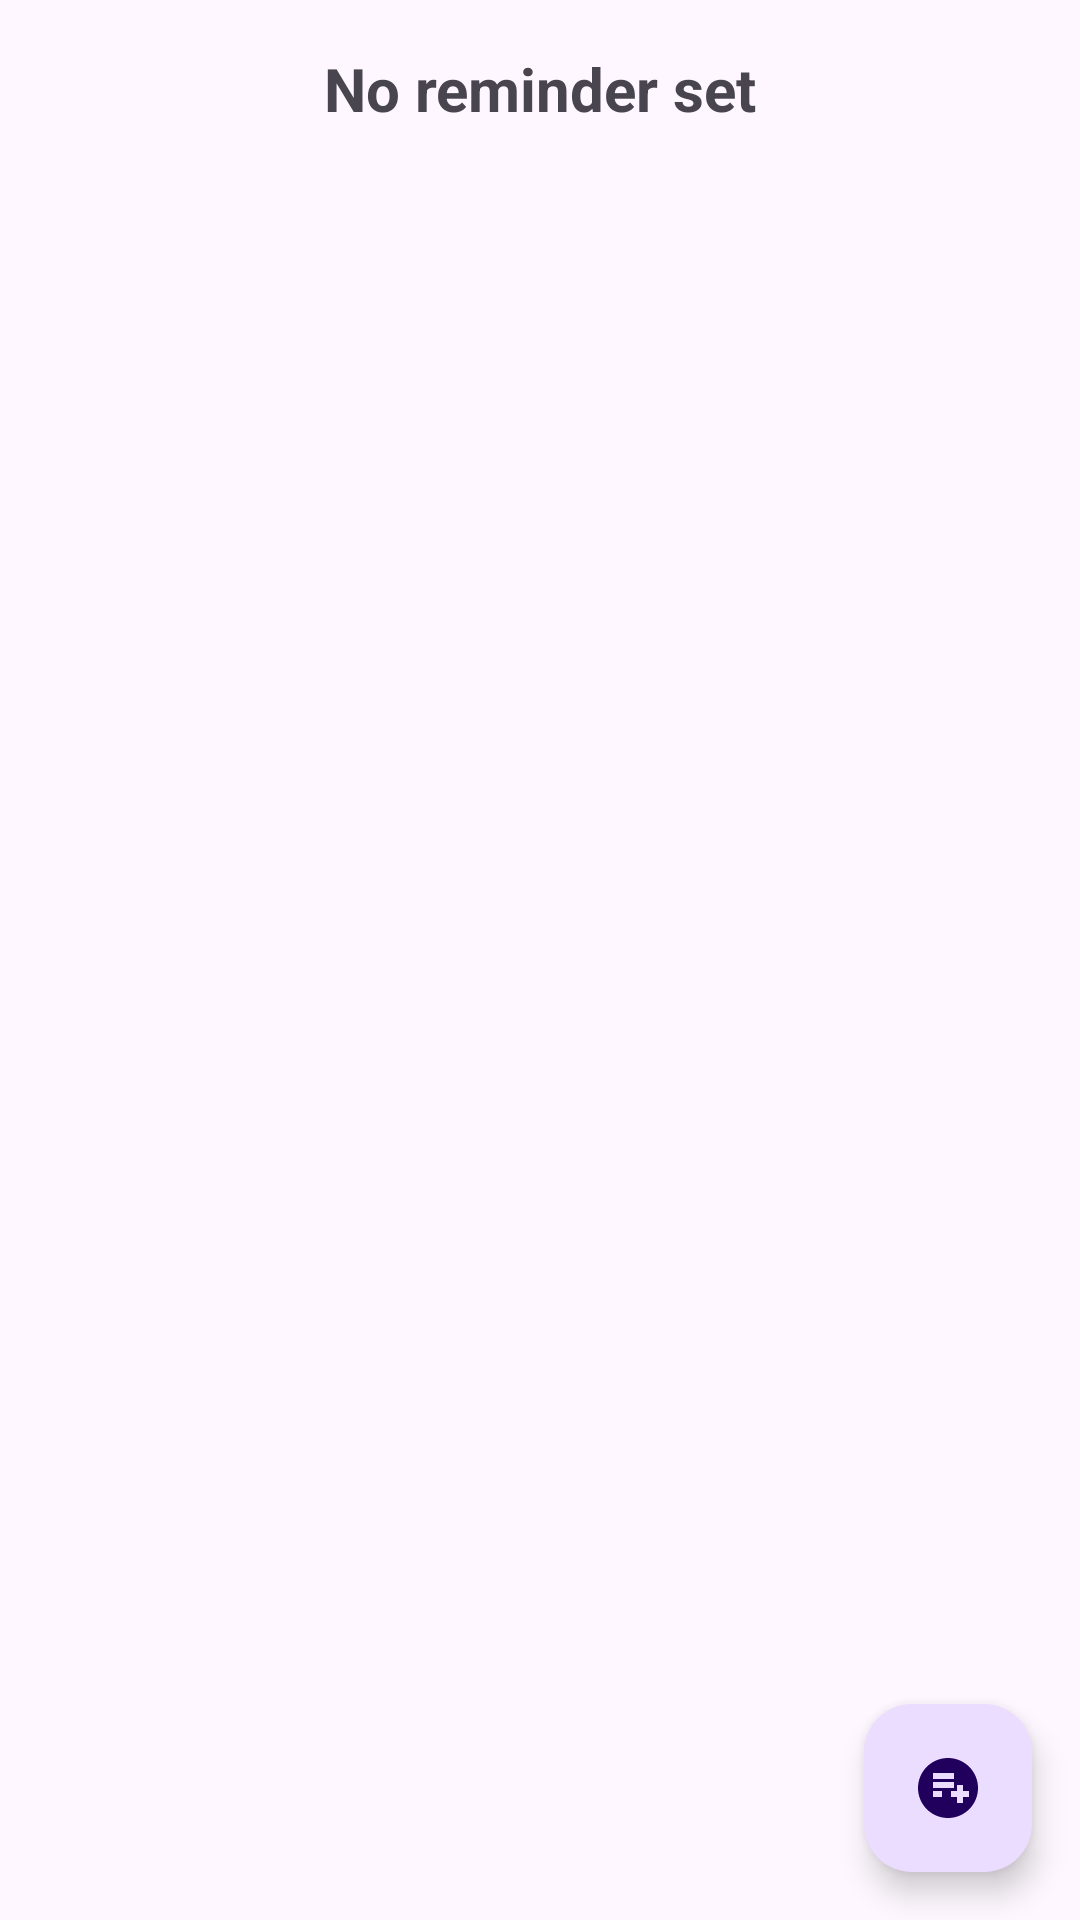

Where to tap for icons on this 1080px×1920px app screen, as point (x, y):
fab: point (948, 1788)
